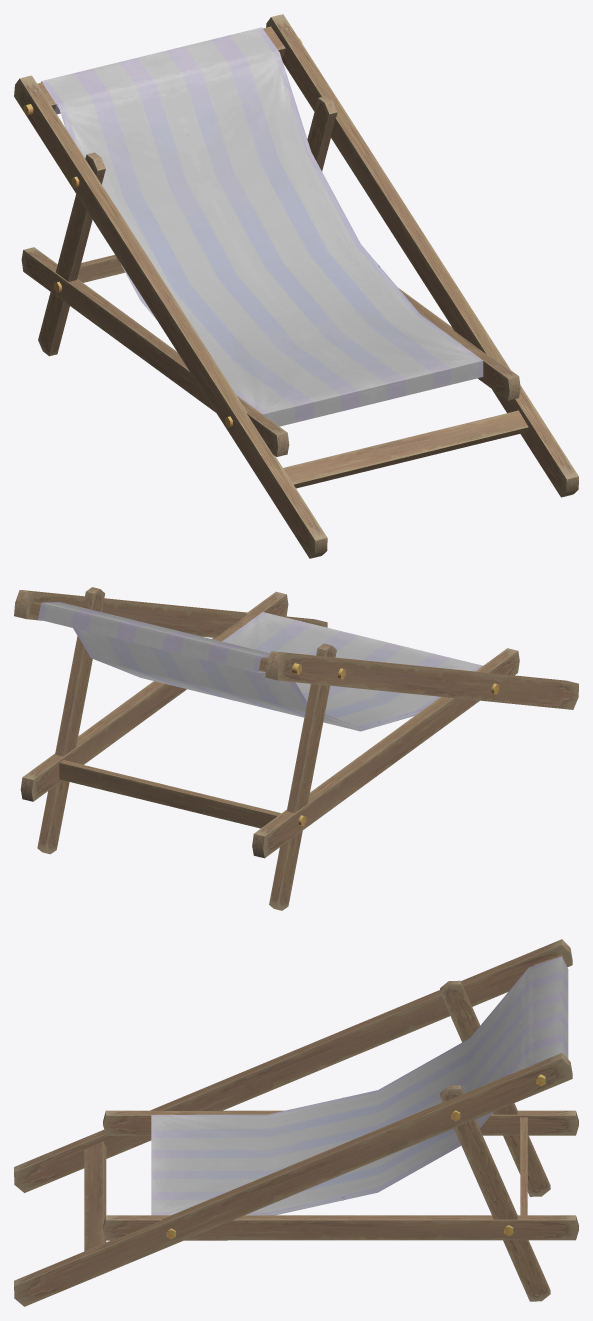
Rendered from DeckchairHealthyGlow.fbx.
3 renders of one model, top to bottom at view 1: azimuth 30°, elevation 25°; view 2: azimuth 150°, elevation 25°; view 3: azimuth 270°, elevation 25°, orthographic. The views are drawn at different scales.
Parts seen in each view (by area): view 1: Area_Tyd_Prop_Common_Tangyi_01_Vo; view 2: Area_Tyd_Prop_Common_Tangyi_01_Vo; view 3: Area_Tyd_Prop_Common_Tangyi_01_Vo.
Part boxes in pixels (box(x1,y1,x2,y2)): Area_Tyd_Prop_Common_Tangyi_01_Vo: box(14, 14, 578, 558); Area_Tyd_Prop_Common_Tangyi_01_Vo: box(14, 587, 578, 910); Area_Tyd_Prop_Common_Tangyi_01_Vo: box(14, 939, 578, 1306).
Bounding box in the file's own units: 147 × 138 × 284.
Materials: 1 (1 with a texture image).
